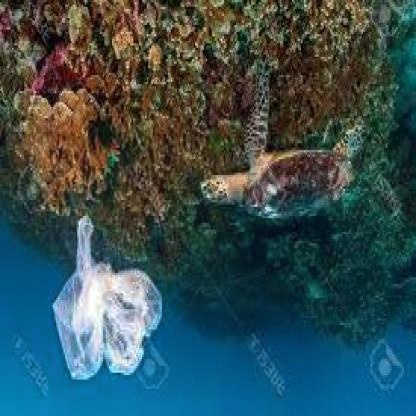pbag: (50, 214, 163, 384)
